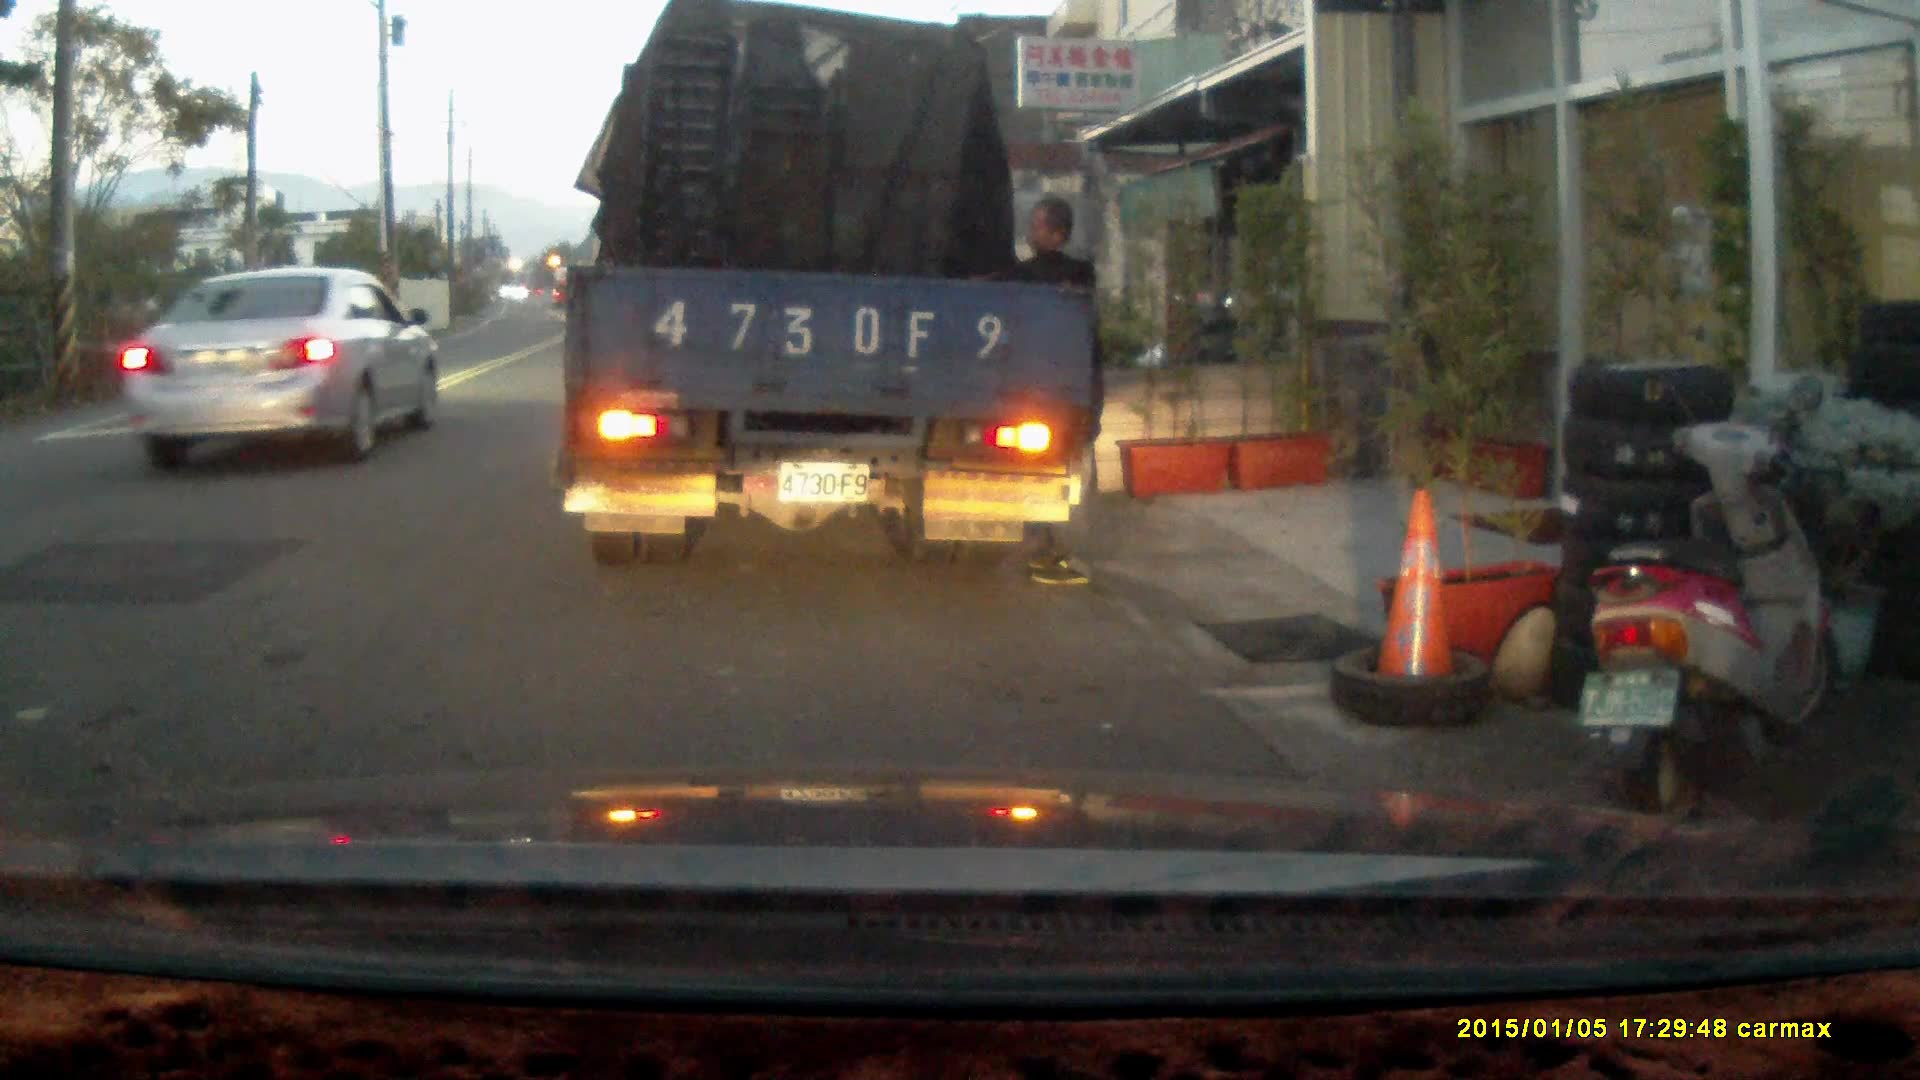pedestrian: (966, 197, 1105, 586)
vehicle: (565, 23, 1097, 572), (104, 267, 442, 470)
